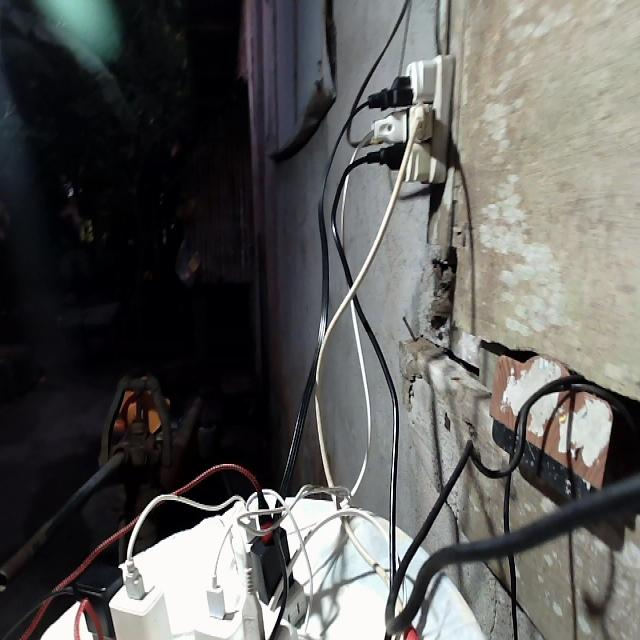-: (364, 52, 454, 185)
